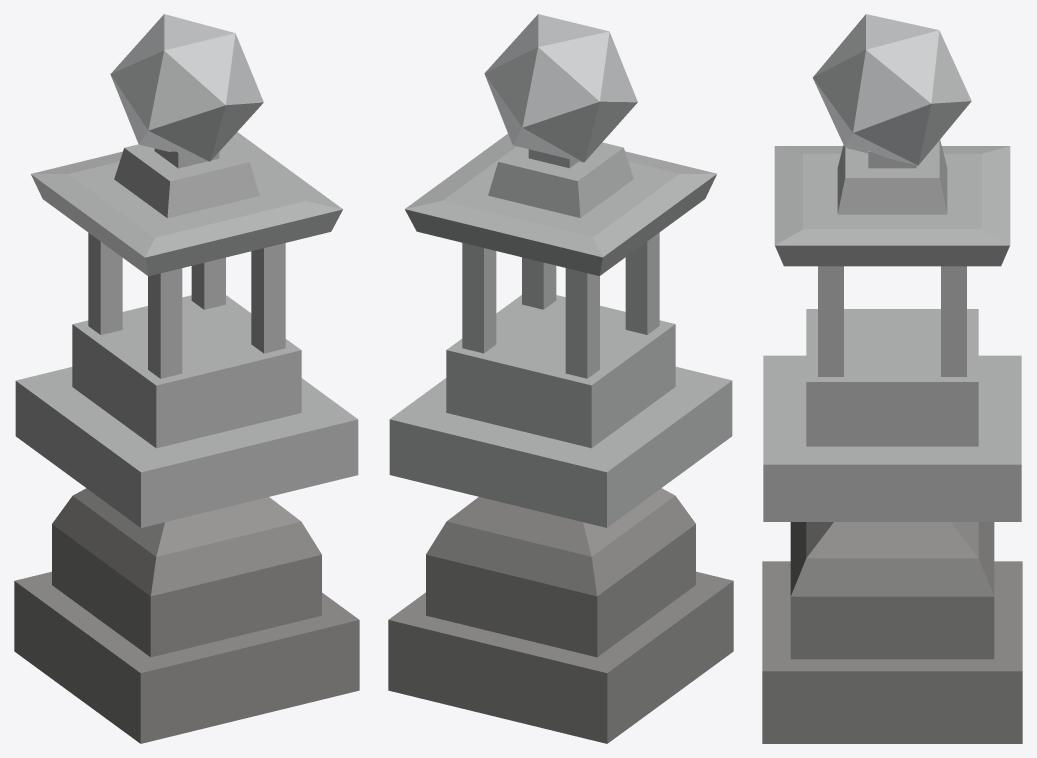
The model's file is totem_2.fbx.
3 views of the same model, side by side, from view 1: azimuth 30°, elevation 25°; view 2: azimuth 150°, elevation 25°; view 3: azimuth 270°, elevation 25° (orthographic). The views are drawn at different scales.
Parts seen in each view (by area): view 1: totem_2; view 2: totem_2; view 3: totem_2.
Part boxes in pixels (box(x1,y1,x2,y2)): totem_2: box(14, 14, 359, 743); totem_2: box(388, 14, 733, 743); totem_2: box(762, 14, 1022, 743).
Size of the model in its own units: 62.56 by 175 by 62.56.
